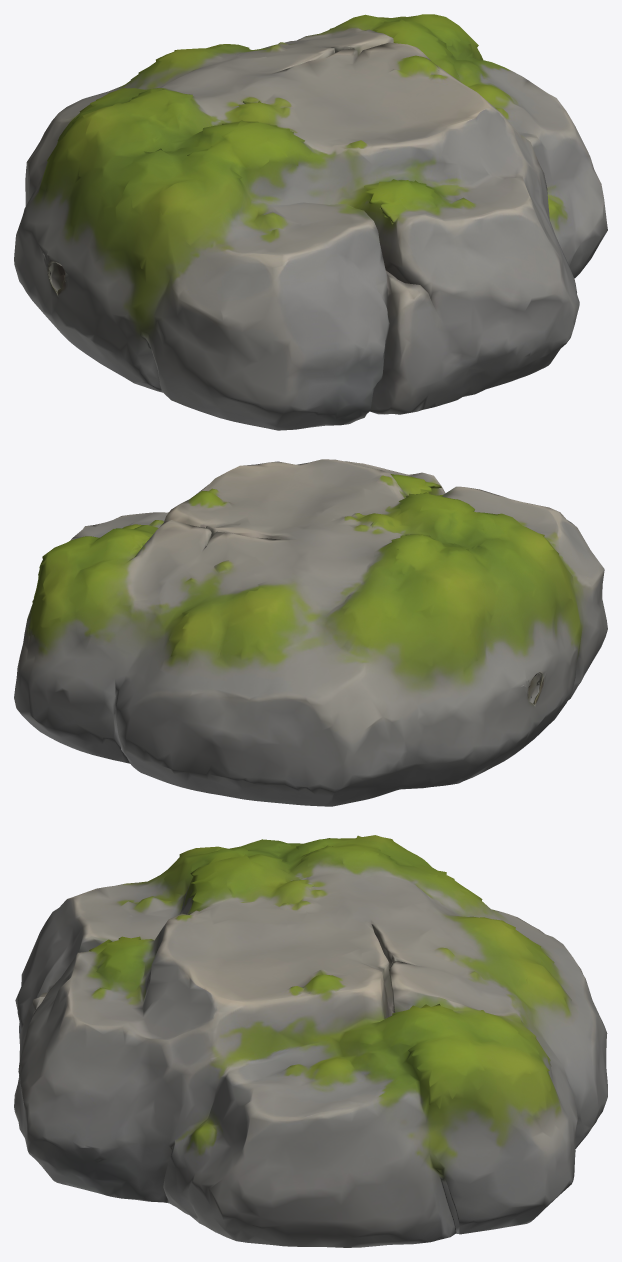
Rendered from rock.glb.
The picture shows the model from 3 angles, top to bottom: view 1: azimuth 30°, elevation 25°; view 2: azimuth 150°, elevation 25°; view 3: azimuth 270°, elevation 25°; orthographic projection. The views are drawn at different scales.
Parts seen in each view (by area): view 1: tripo_node_f3c08e8f-96a8-46e2-bbdb-4f3ec4ca6e0a; view 2: tripo_node_f3c08e8f-96a8-46e2-bbdb-4f3ec4ca6e0a; view 3: tripo_node_f3c08e8f-96a8-46e2-bbdb-4f3ec4ca6e0a.
Boxes of the visible parts, x1=… form: tripo_node_f3c08e8f-96a8-46e2-bbdb-4f3ec4ca6e0a: x1=14, y1=14, x2=607, y2=430; tripo_node_f3c08e8f-96a8-46e2-bbdb-4f3ec4ca6e0a: x1=14, y1=459, x2=607, y2=806; tripo_node_f3c08e8f-96a8-46e2-bbdb-4f3ec4ca6e0a: x1=14, y1=835, x2=607, y2=1247.
Size of the model in its own units: 0.9948 by 0.4253 by 1.
1 material, 1 textured.
